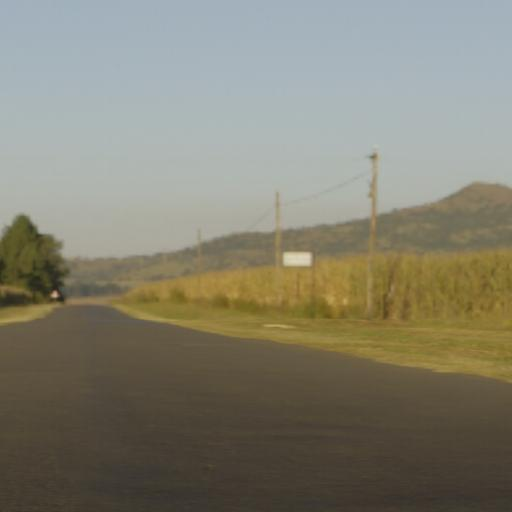nothing: (2, 1, 512, 510)
